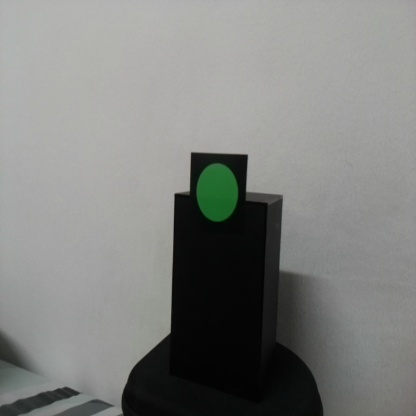id_5: (191, 153, 247, 238)
